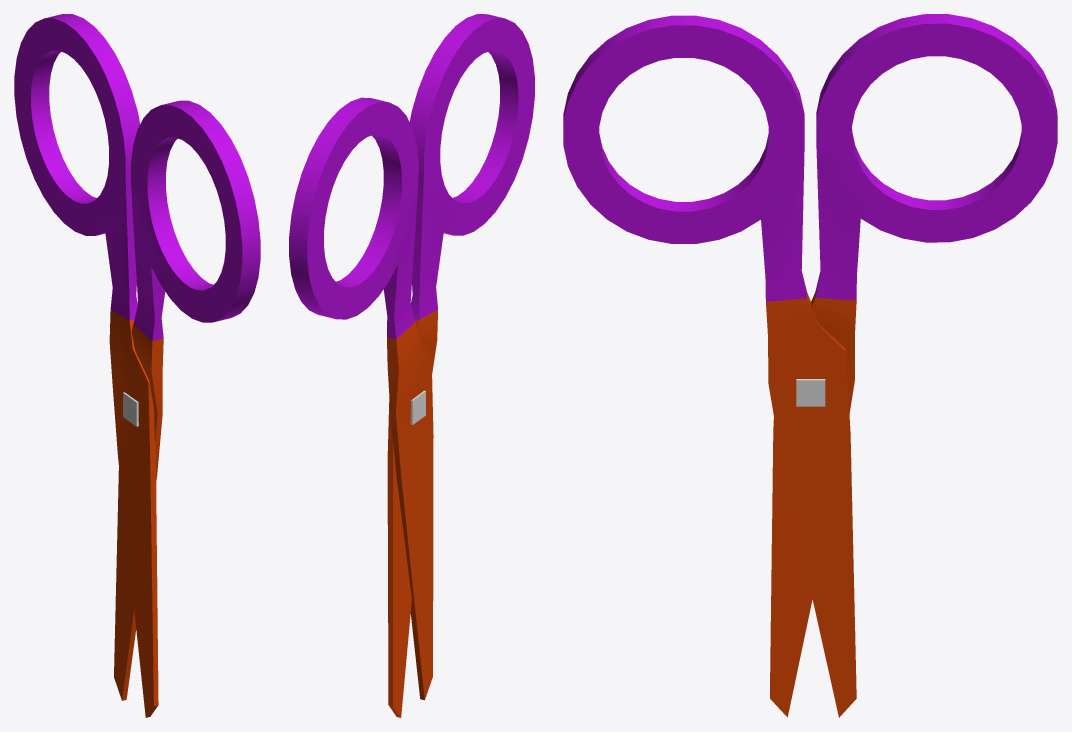
Rendered from Scissors2.fbx.
3 renders of one model, left to right at view 1: azimuth 30°, elevation 25°; view 2: azimuth 150°, elevation 25°; view 3: azimuth 270°, elevation 25°, orthographic. The views are drawn at different scales.
Visible parts, largest first — view 1: Cylinder.002, Cylinder, Scissors; view 2: Cylinder.002, Cylinder, Scissors; view 3: Cylinder, Cylinder.002, Scissors.
Part boxes in pixels (left/top/right/bottom): Cylinder.002: left=14, top=14, right=158, bottom=717; Cylinder: left=114, top=100, right=260, bottom=700; Scissors: left=123, top=392, right=138, bottom=426; Cylinder.002: left=289, top=97, right=433, bottom=700; Cylinder: left=387, top=14, right=534, bottom=717; Scissors: left=410, top=390, right=425, bottom=424; Cylinder: left=563, top=15, right=856, bottom=717; Cylinder.002: left=770, top=14, right=1057, bottom=717; Scissors: left=796, top=379, right=825, bottom=406.
Bounding box in the file's own units: 7.89 × 264 × 170.
